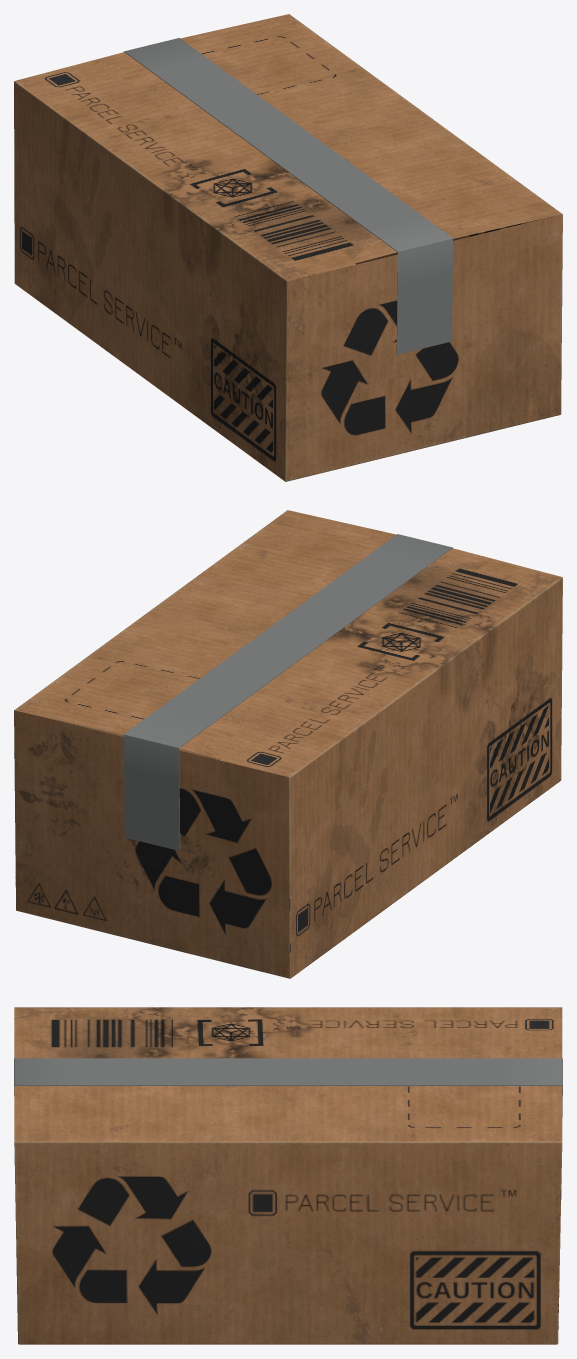
File: box-packagev2.fbx
The picture shows the model from 3 angles, top to bottom: view 1: azimuth 30°, elevation 25°; view 2: azimuth 150°, elevation 25°; view 3: azimuth 270°, elevation 25°; orthographic projection.
Parts seen in each view (by area): view 1: box, tape; view 2: box, tape; view 3: box, tape.
Part boxes in pixels (x1,y1,x2,y2): box: (14, 14, 562, 481); tape: (124, 38, 452, 354); box: (14, 510, 562, 978); tape: (123, 534, 452, 850); box: (14, 1007, 562, 1344); tape: (14, 1058, 562, 1116).
Bounding box in the file's own units: 50 × 35.52 × 85.96.
